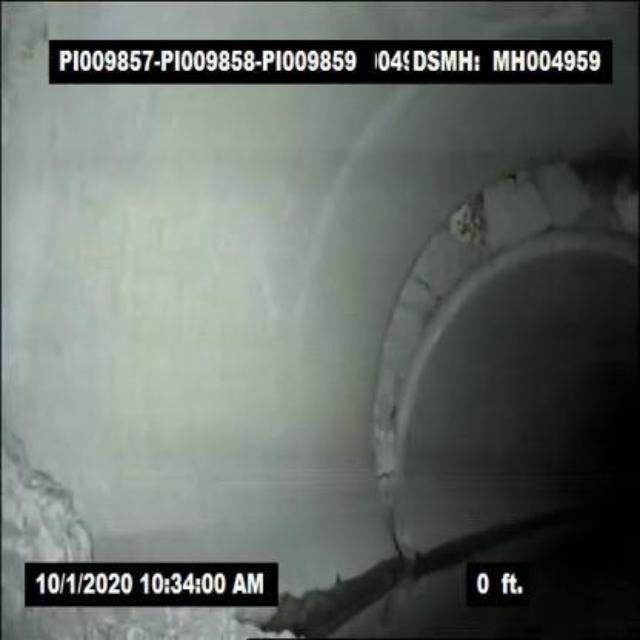Joint offset: (414, 142, 634, 277), (363, 325, 429, 509)
